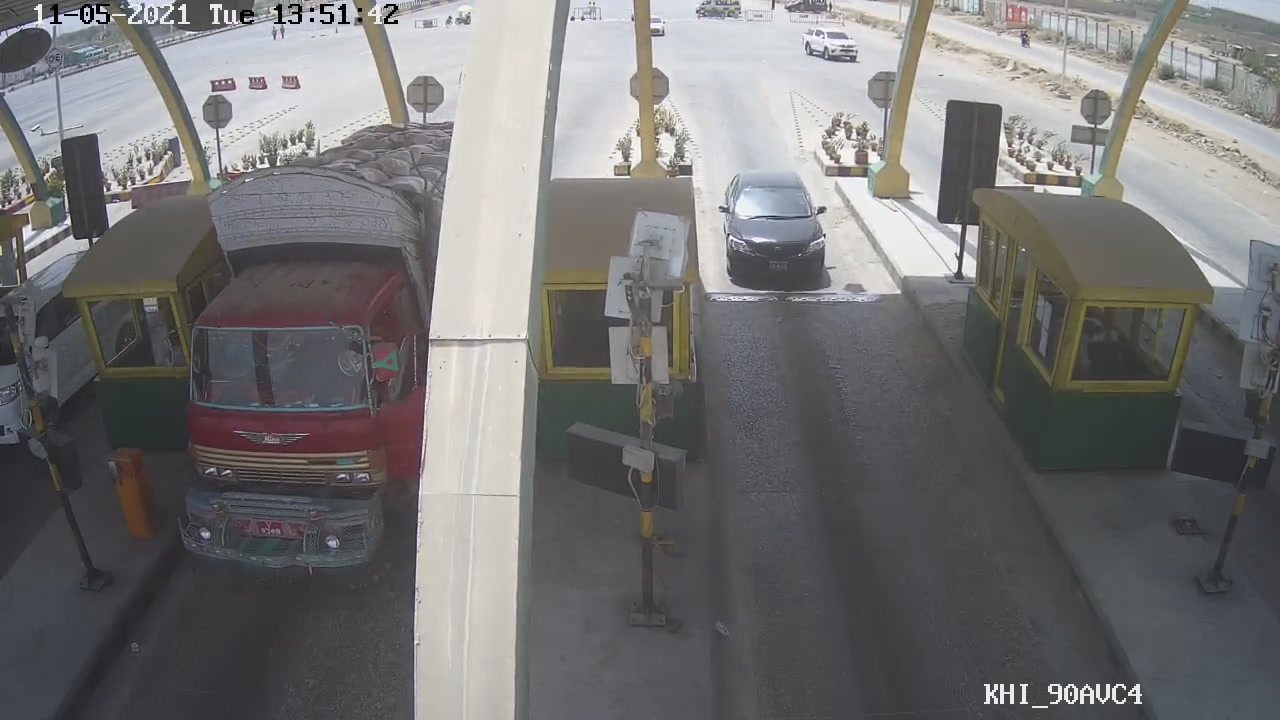F1: (715, 166, 837, 291)
